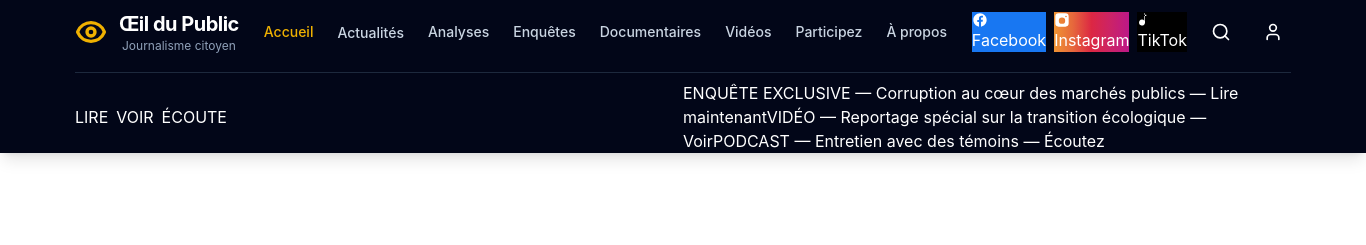
Scenario: Header › toggles search input when search button is clicked
Click the button named "Ouvrir la recherche": {"x": 1221, "y": 32} [1203,14,1239,50]
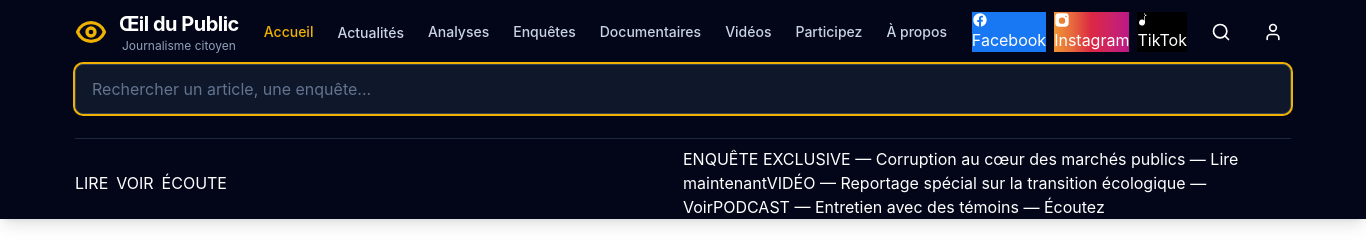
Now the field with placeholder "Rechercher un article, une enquête..." is shown, box [75,64,1291,114]
